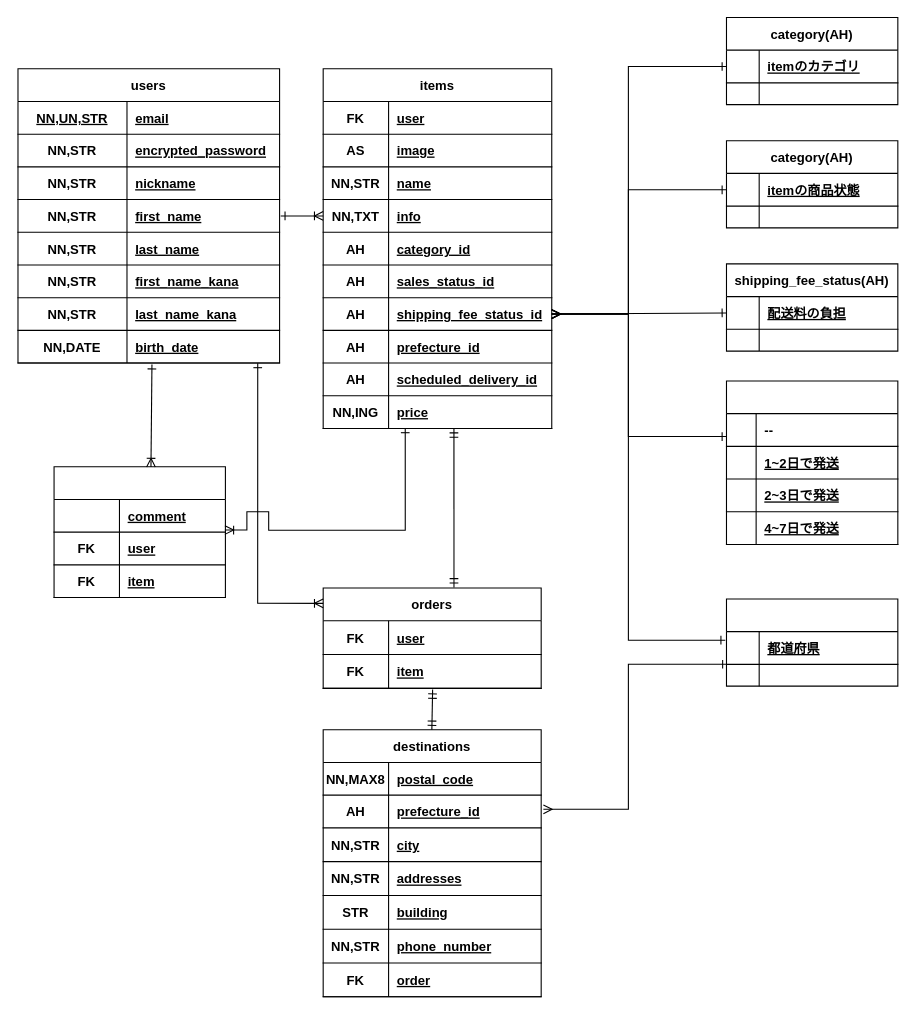
This 916x1015 diagram has some shape labels left out. Each missing label, with the box of its shape:
comments: (53, 466, 225, 598)
prefecture(AH): (725, 598, 898, 686)
scheduled_delivery(AH): (725, 380, 898, 544)
